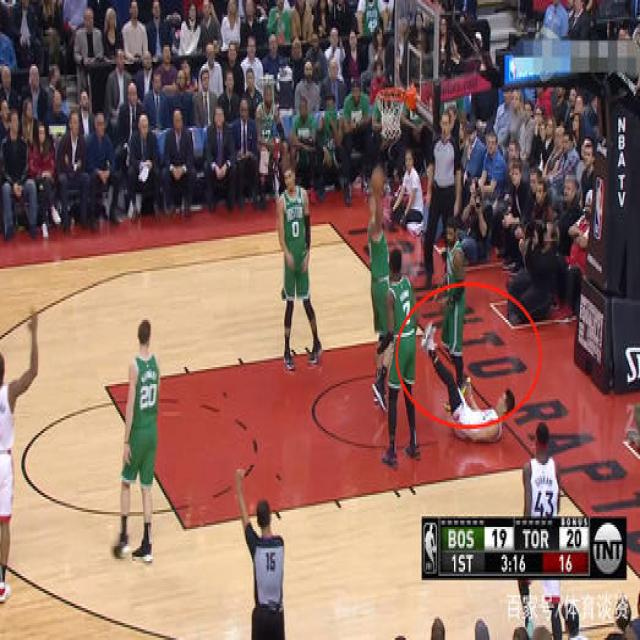10-: (2, 0, 629, 634)
down: (415, 312, 531, 454)
